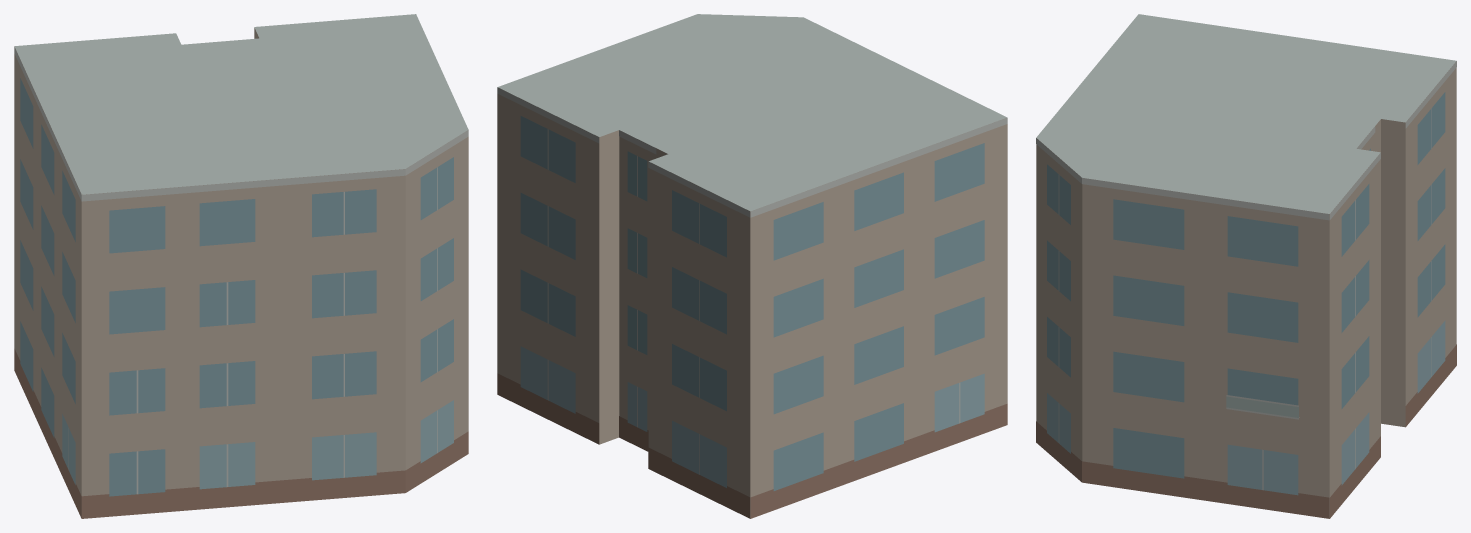
File: survey-upis-33017865.glb
The picture shows the model from 3 angles, left to right: view 1: azimuth 30°, elevation 25°; view 2: azimuth 150°, elevation 25°; view 3: azimuth 270°, elevation 25°; orthographic projection. The views are drawn at different scales.
Parts seen in each view (by area): view 1: survey-upis-33017865.tmp; view 2: survey-upis-33017865.tmp; view 3: survey-upis-33017865.tmp.
Boxes of the visible parts, left/top/right/bottom form: survey-upis-33017865.tmp: left=14, top=14, right=468, bottom=518; survey-upis-33017865.tmp: left=497, top=14, right=1007, bottom=518; survey-upis-33017865.tmp: left=1036, top=14, right=1456, bottom=518.
Size of the model in its own units: 16.48 by 11.7 by 14.65.
